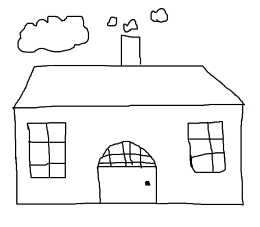closed_window: (184, 118, 232, 177), (23, 119, 68, 181)
clouds: (17, 14, 91, 56)
door: (94, 140, 162, 209)
roof: (8, 60, 248, 113)
smoking_chimney: (104, 4, 171, 71)
wall: (8, 100, 246, 211)
